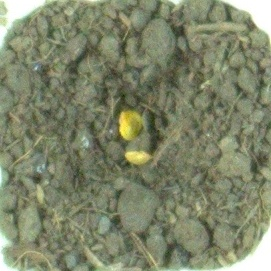pepper seed: (46, 65, 202, 232), (44, 37, 191, 179)
